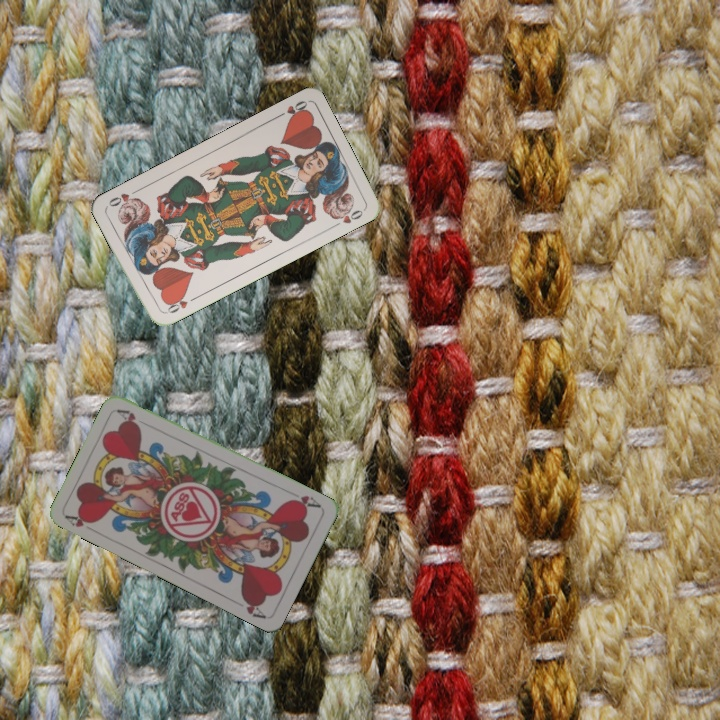HA: (62, 509, 100, 536), (285, 491, 324, 511)
HO: (271, 96, 310, 122), (160, 291, 199, 316)
